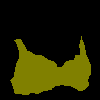reggiseno: (10, 34, 91, 95)
